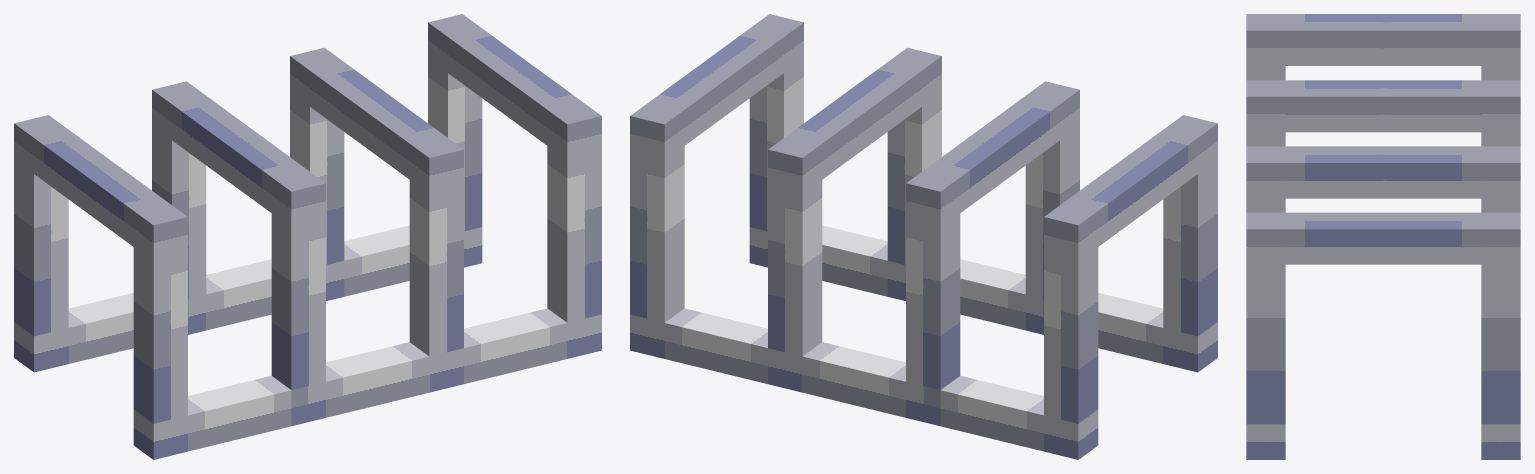
The model's file is bicycle-rack.gltf.
3 renders of one model, left to right at view 1: azimuth 30°, elevation 25°; view 2: azimuth 150°, elevation 25°; view 3: azimuth 270°, elevation 25°, orthographic.
Visible parts, largest first — view 1: cube (×18); view 2: cube (×18); view 3: cube (×14).
Part boxes in pixels (x1,y1,x2,y2): cube (×18): (14, 14, 601, 459); cube (×18): (630, 14, 1217, 459); cube (×14): (1246, 14, 1520, 459).
Size of the model in its own units: 1.62 by 0.8125 by 0.875.
1 material, 1 textured.
